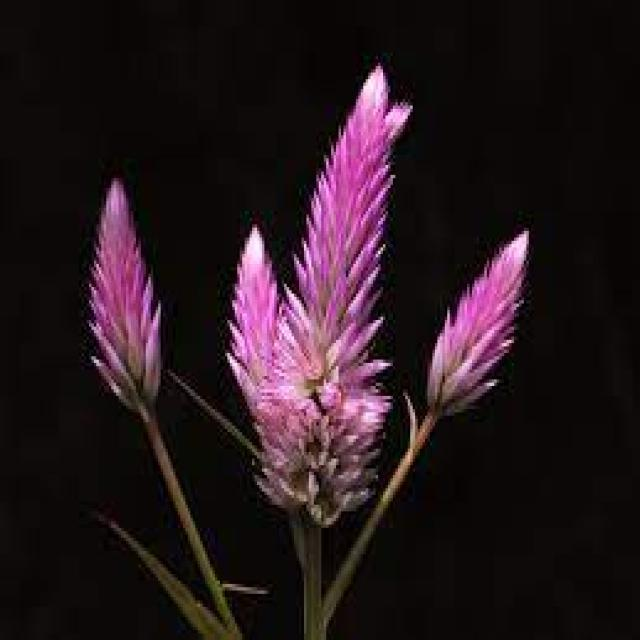Celosia-Argentea: (86, 59, 532, 532)
